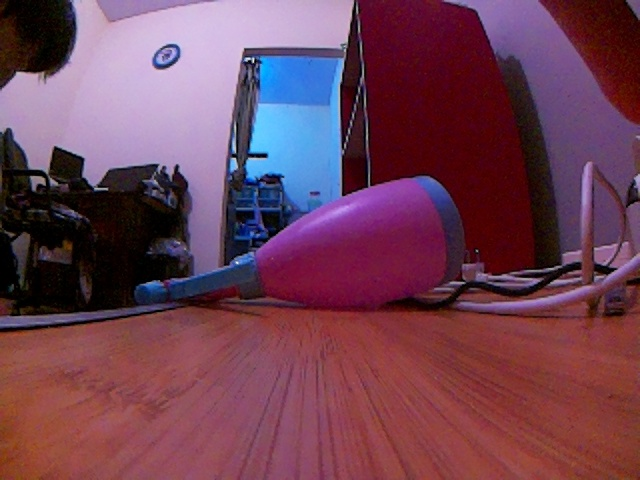korban: (138, 176, 468, 306)
